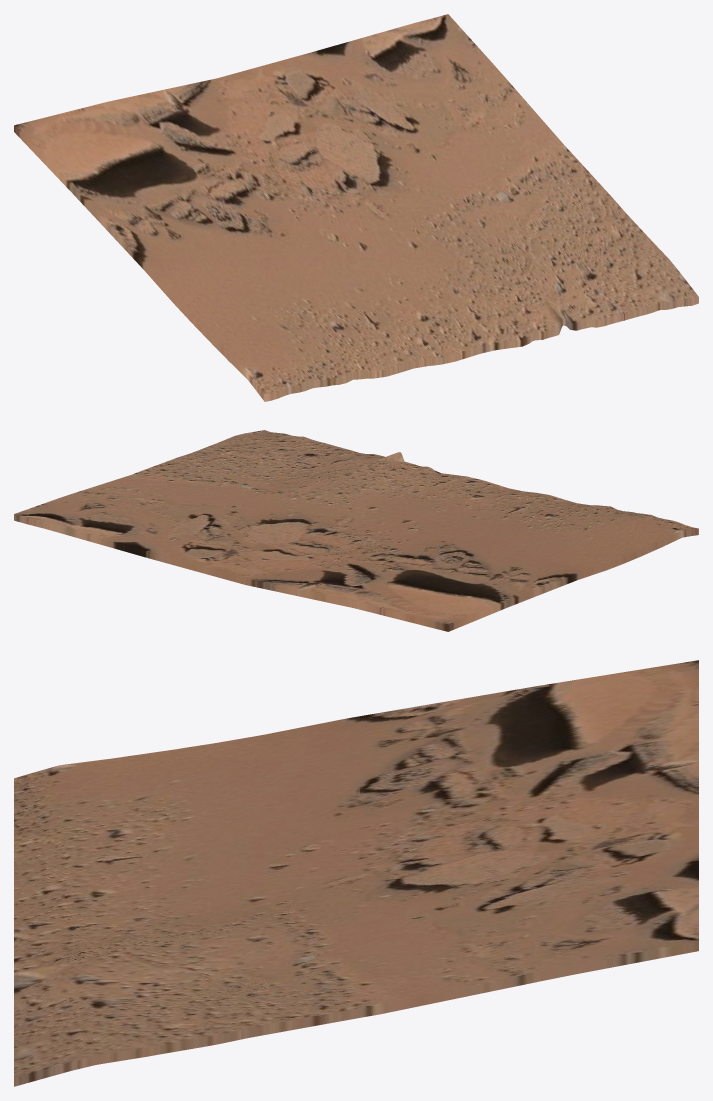
The picture shows the model from 3 angles, top to bottom: view 1: azimuth 30°, elevation 25°; view 2: azimuth 150°, elevation 25°; view 3: azimuth 270°, elevation 25°; orthographic projection. The views are drawn at different scales.
Size of the model in its own units: 4 by 0.938 by 4.
Materials: 1 (1 with a texture image).
